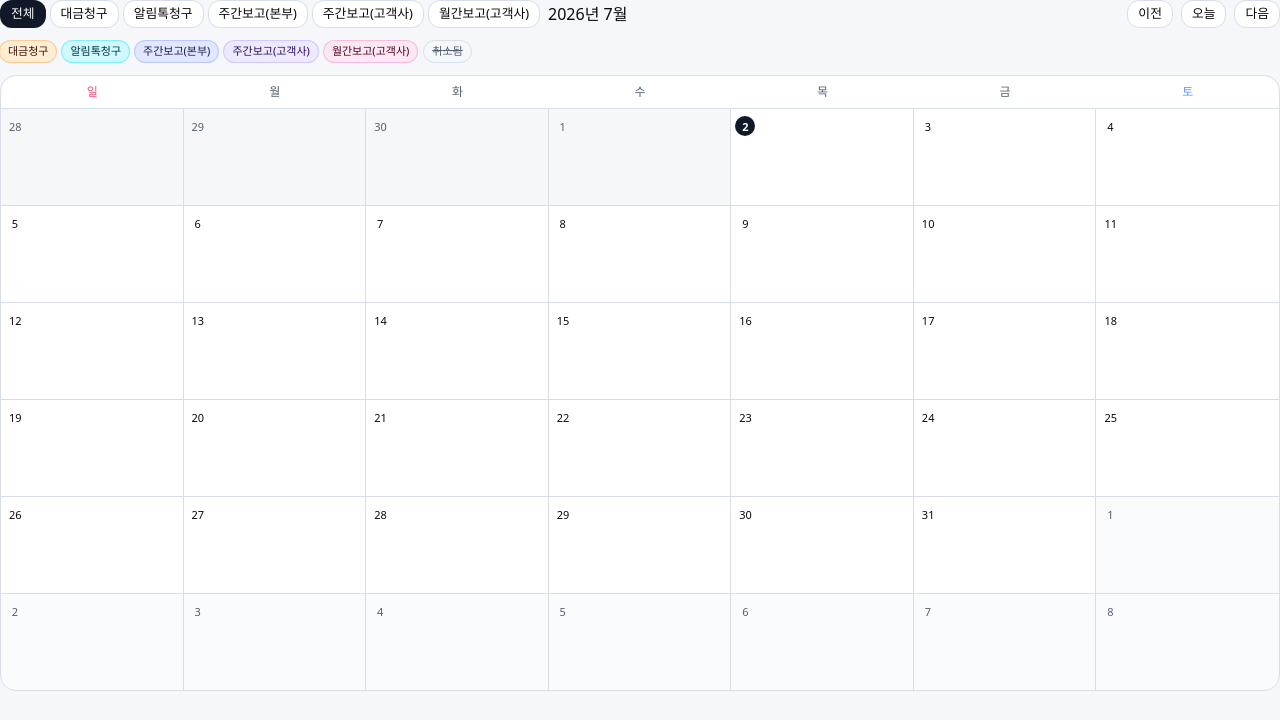
Scenario: WorkflowsCalendar — 팝오버·생성(D9) › 생성 권한 있으면 '+' 빠른추가·'새 작업 등록' 노출
Click the button "15".
click(640, 350)  # box [549,302,731,398]
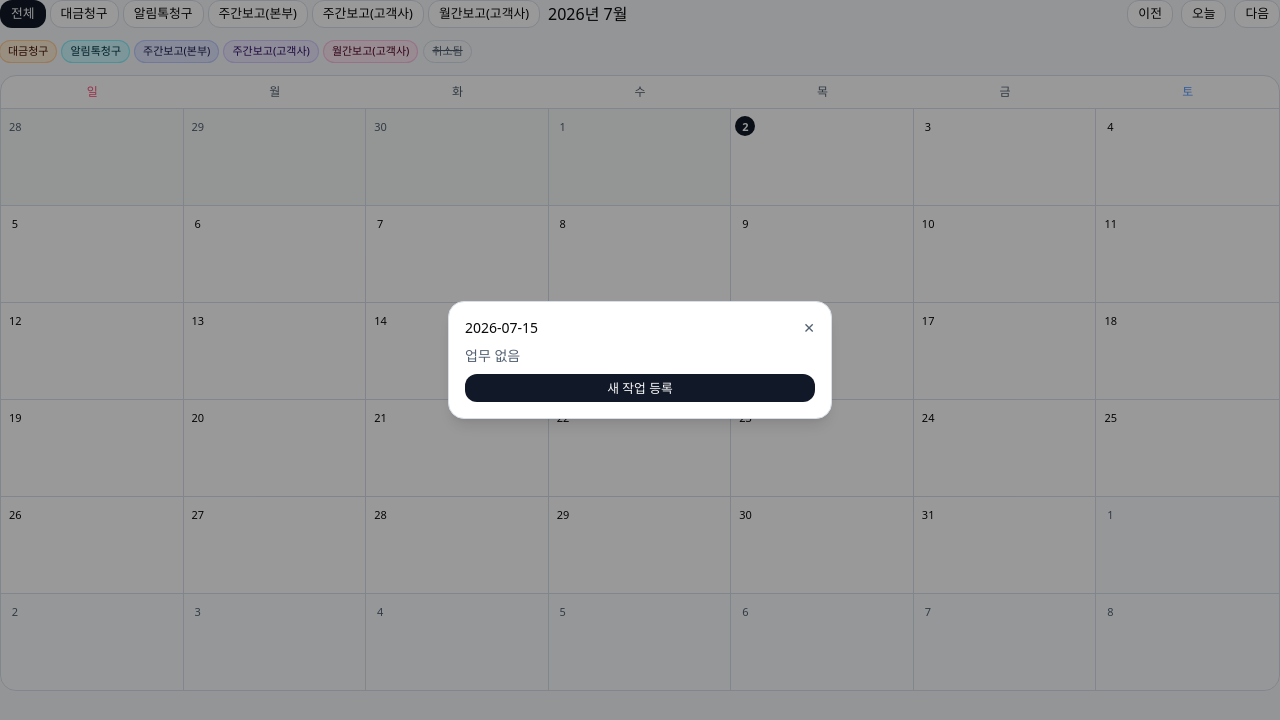
Expected: the button "새 작업 등록" is shown, [465,374,815,402]
